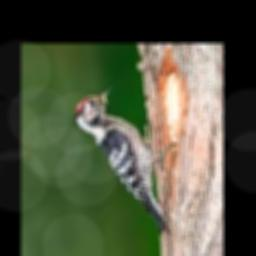Woodpecker: (73, 86, 176, 232)
